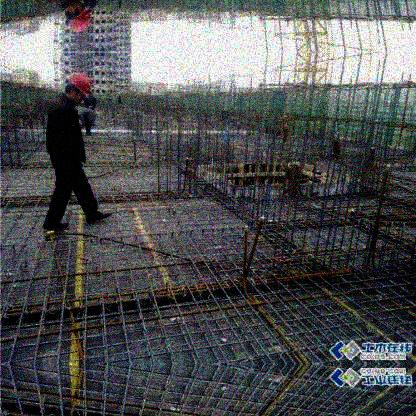helmet: (63, 1, 92, 35), (65, 73, 91, 105)
